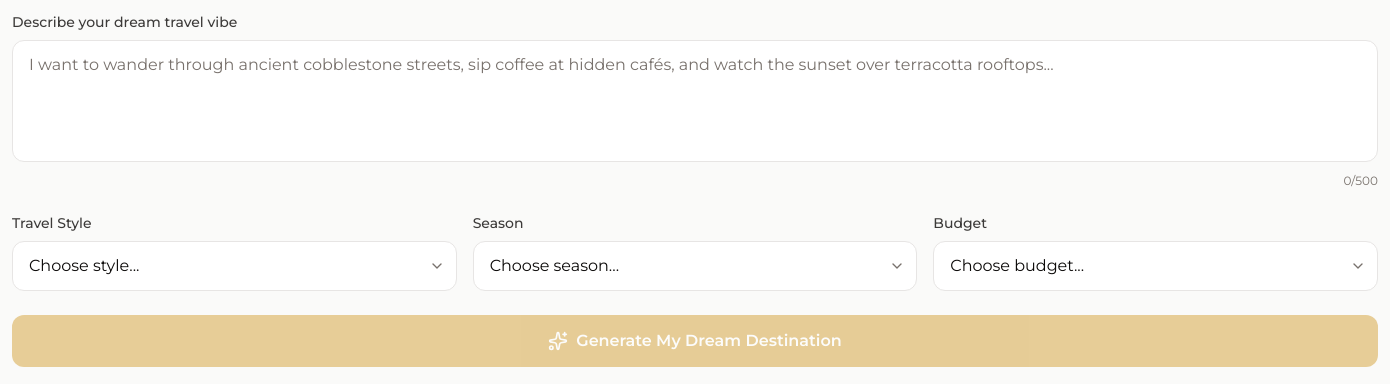
it: GeneratorForm › enables submit when form is complete
This screenshot has width=1390, height=384.
Type "I want a relaxing beach vacation with crystal clear water" into the text box labelled "Describe your dream travel vibe" at point(695, 101), box left=12, top=40, right=1378, bottom=162
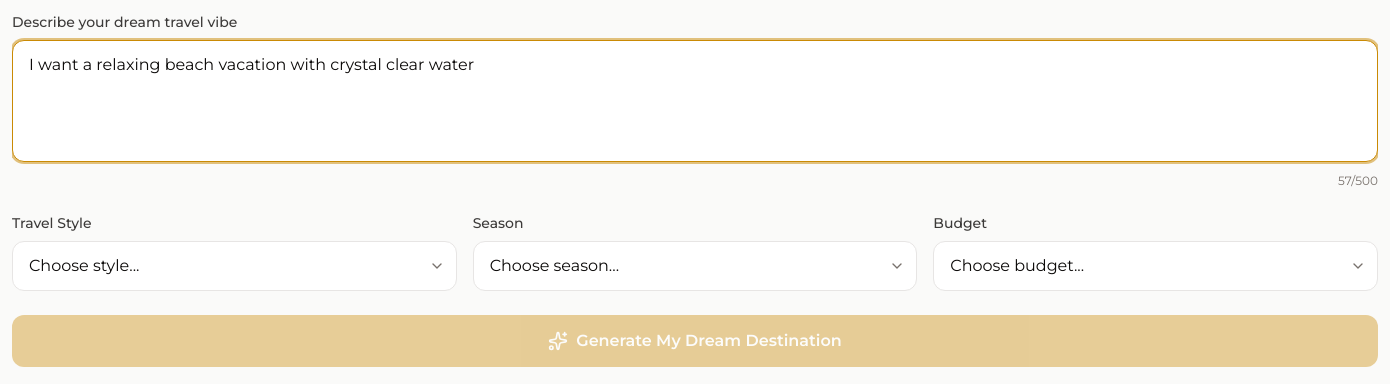
Select "Relaxation" in the dropdown labelled "Travel Style" at point(234, 266), box left=12, top=241, right=457, bottom=291
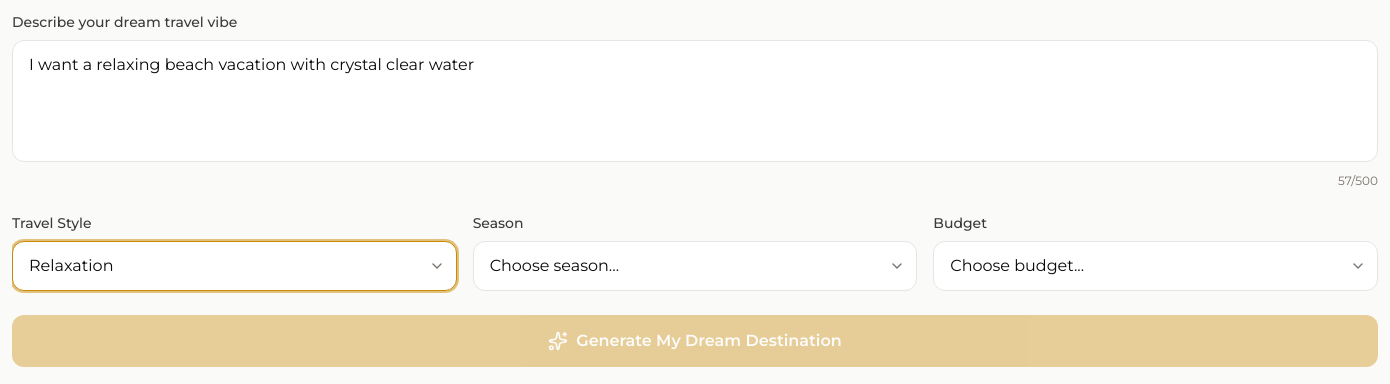
Select "Summer" in the dropdown labelled "Season" at point(695, 266), box left=473, top=241, right=917, bottom=291
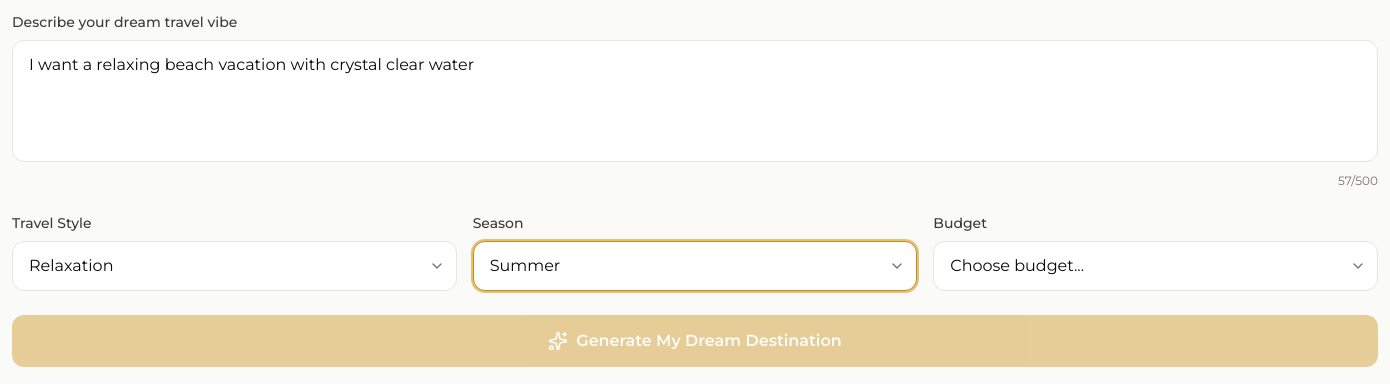
Select "Mid-Range" in the dropdown labelled "Budget" at point(1156, 266), box left=933, top=241, right=1378, bottom=291
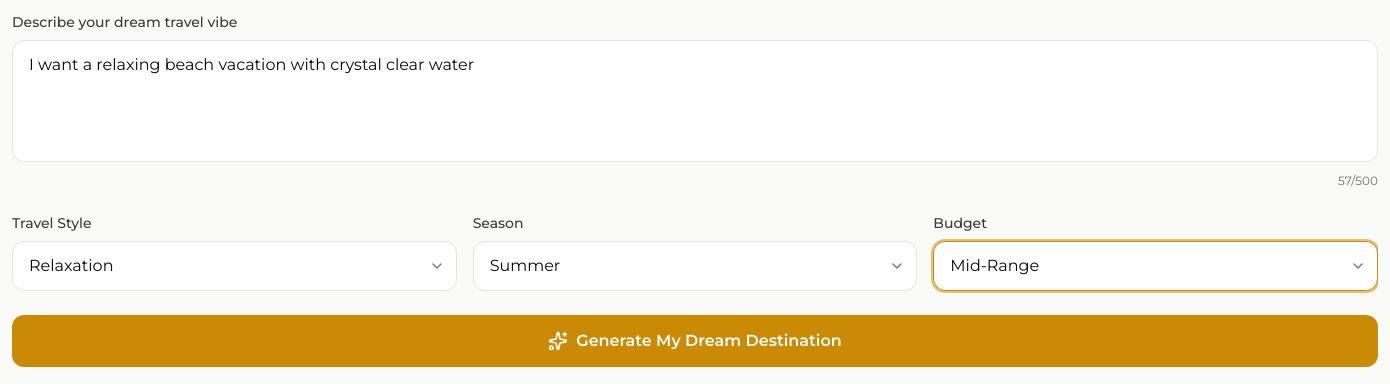
Check: the button "Generate My Dream Destination" is enabled, box left=12, top=315, right=1378, bottom=367
